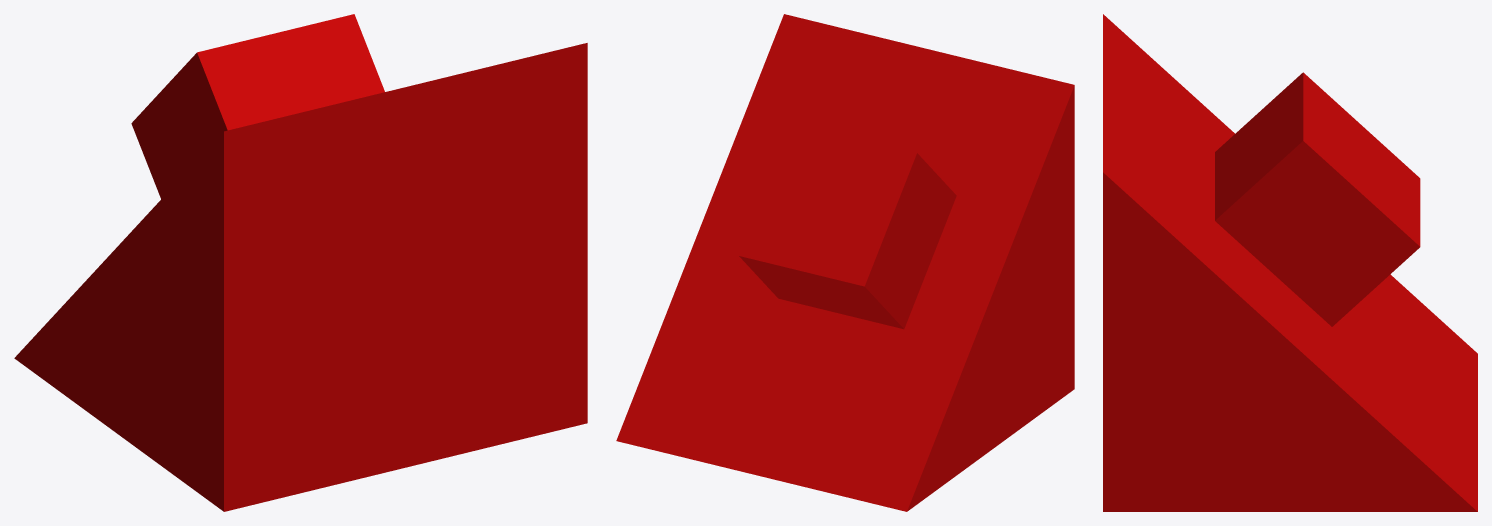
Rendered from slider.obj.
3 renders of one model, left to right at view 1: azimuth 30°, elevation 25°; view 2: azimuth 150°, elevation 25°; view 3: azimuth 270°, elevation 25°, orthographic. The views are drawn at different scales.
Parts seen in each view (by area): view 1: object_1; view 2: object_1; view 3: object_1.
Boxes of the visible parts, box(x1,y1,x2,y2) form: object_1: box(14, 14, 587, 511); object_1: box(616, 14, 1074, 511); object_1: box(1103, 14, 1477, 511).
Size of the model in its own units: 3 by 3 by 3.
